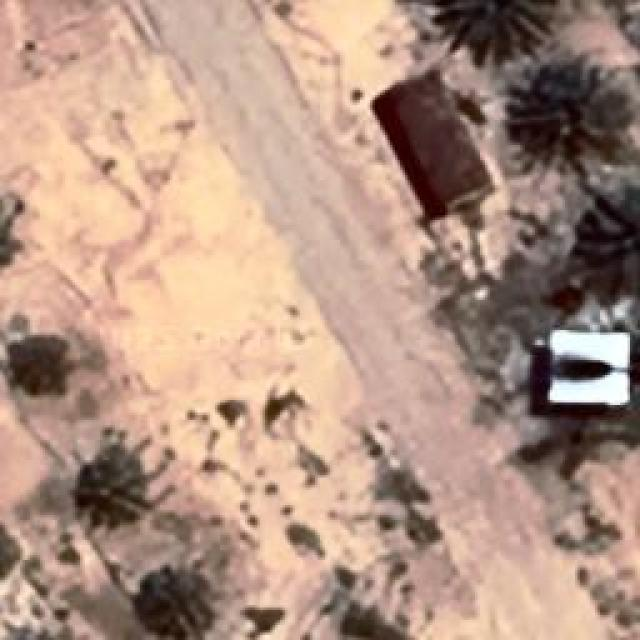PalmTree: (507, 55, 625, 175), (30, 68, 68, 368), (70, 428, 160, 530), (438, 0, 560, 60), (120, 560, 212, 638), (580, 175, 635, 288), (11, 85, 30, 239), (0, 617, 79, 640), (0, 516, 21, 588), (0, 195, 16, 282), (0, 517, 16, 585), (0, 198, 11, 282)
